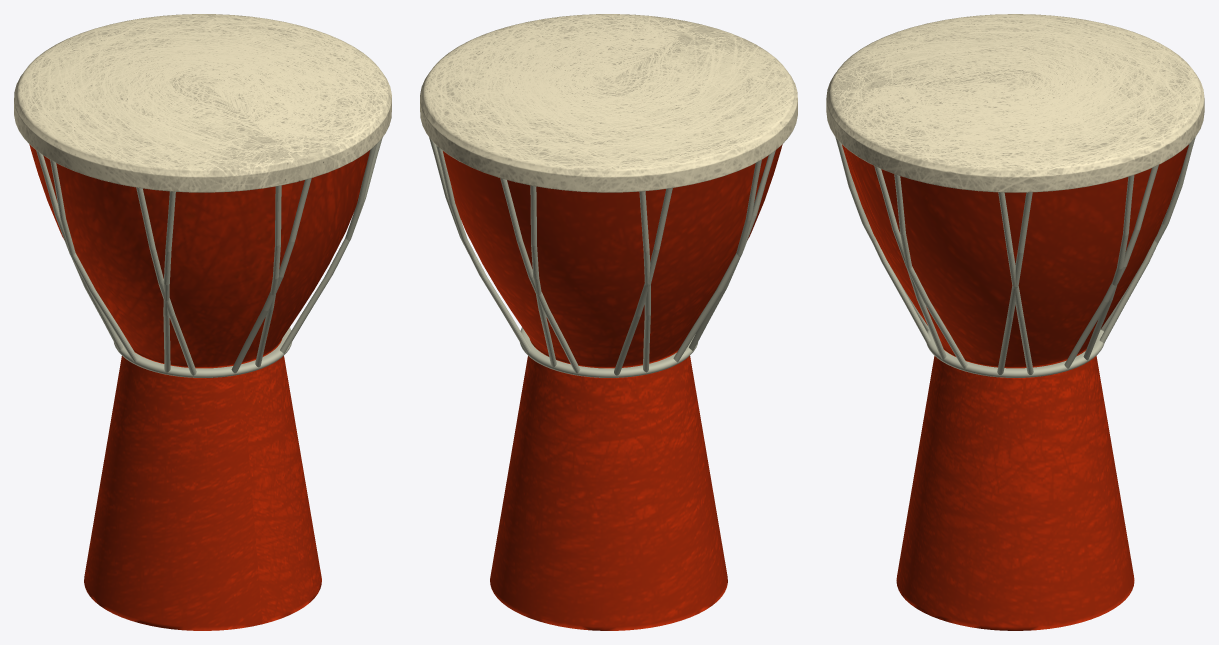
File: djembe__african_instrument.glb
3 views of the same model, side by side, from view 1: azimuth 30°, elevation 25°; view 2: azimuth 150°, elevation 25°; view 3: azimuth 270°, elevation 25° (orthographic).
Parts seen in each view (by area): view 1: Cylinder, Cylinder.002; view 2: Cylinder, Cylinder.002; view 3: Cylinder, Cylinder.002.
Boxes of the visible parts, bbox=[...] form: Cylinder: bbox=[14, 14, 391, 630]; Cylinder.002: bbox=[36, 137, 382, 375]; Cylinder: bbox=[420, 14, 797, 630]; Cylinder.002: bbox=[429, 137, 775, 375]; Cylinder: bbox=[826, 14, 1204, 630]; Cylinder.002: bbox=[835, 137, 1195, 374].
Bounding box in the file's own units: 1.62 × 2.37 × 1.62.
2 materials, 1 textured.
